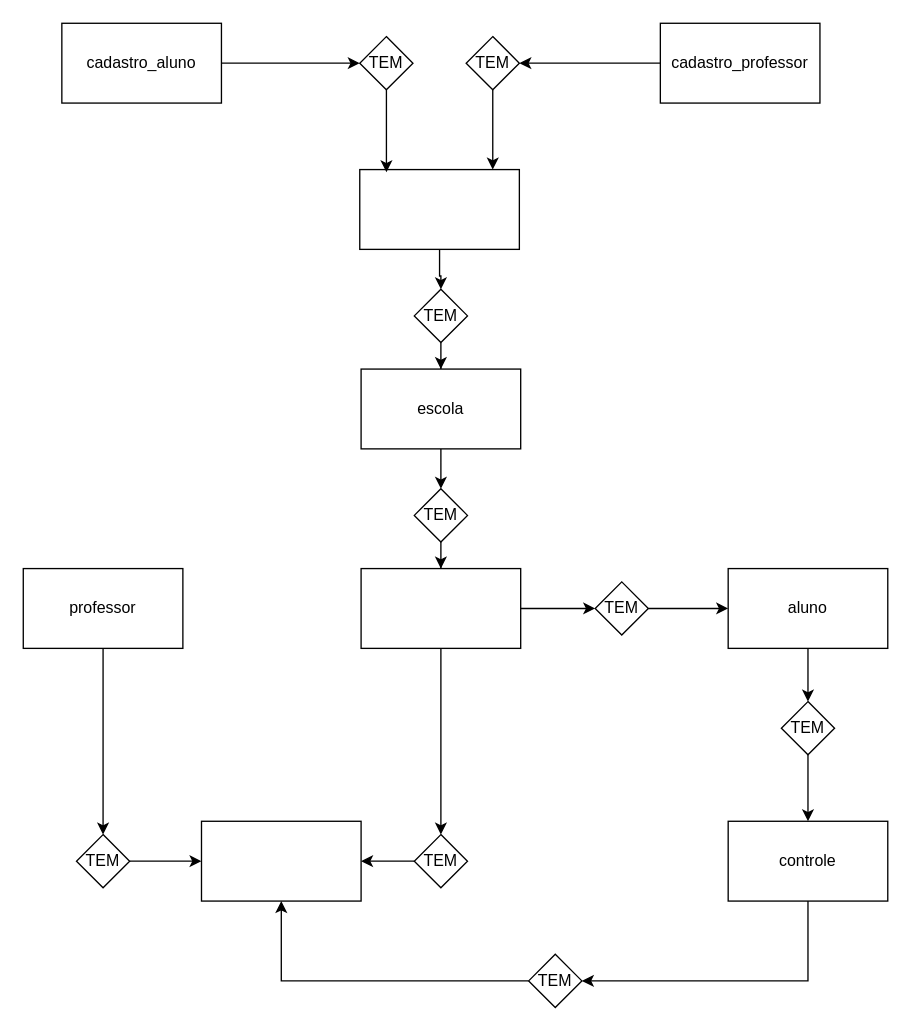
This 911x1031 diagram has some shape labels left out. Each missing label, with the centre of its shape:
disciplina: pixel 280 860
sistema: pixel 438 208
turma: pixel 440 607
